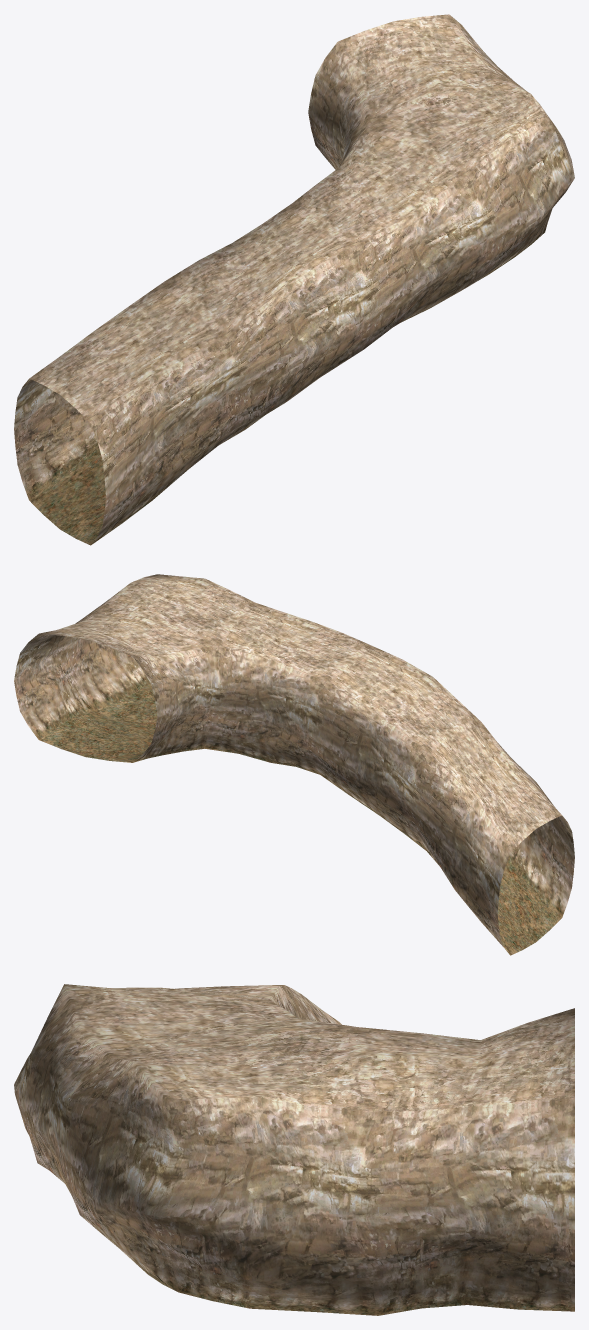
File: thm_all_cave_flatland_s03_r17_mesh_r17.fbx
The picture shows the model from 3 angles, top to bottom: view 1: azimuth 30°, elevation 25°; view 2: azimuth 150°, elevation 25°; view 3: azimuth 270°, elevation 25°; orthographic projection. The views are drawn at different scales.
Parts seen in each view (by area): view 1: mesh_node; view 2: mesh_node; view 3: mesh_node.
Part boxes in pixels (x1,y1,x2,y2): mesh_node: (14, 14, 574, 545); mesh_node: (14, 574, 574, 955); mesh_node: (14, 984, 574, 1315).
Size of the model in its own units: 32.95 by 19.86 by 18.36.
